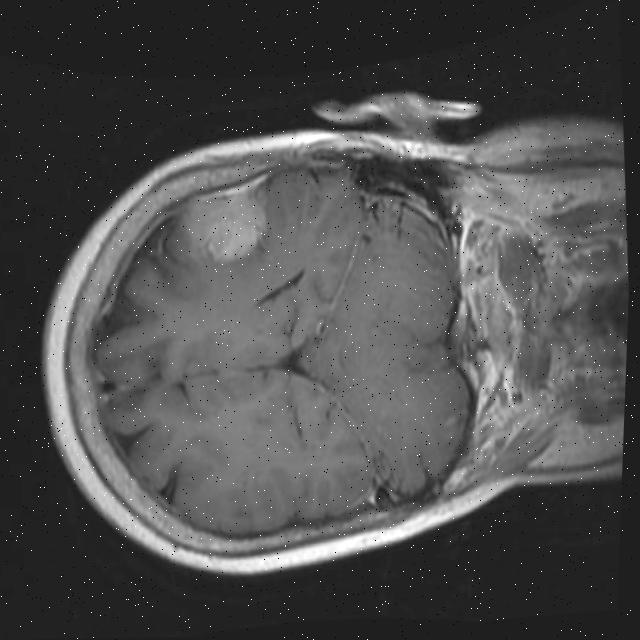Meningioma: (171, 184, 272, 268)
